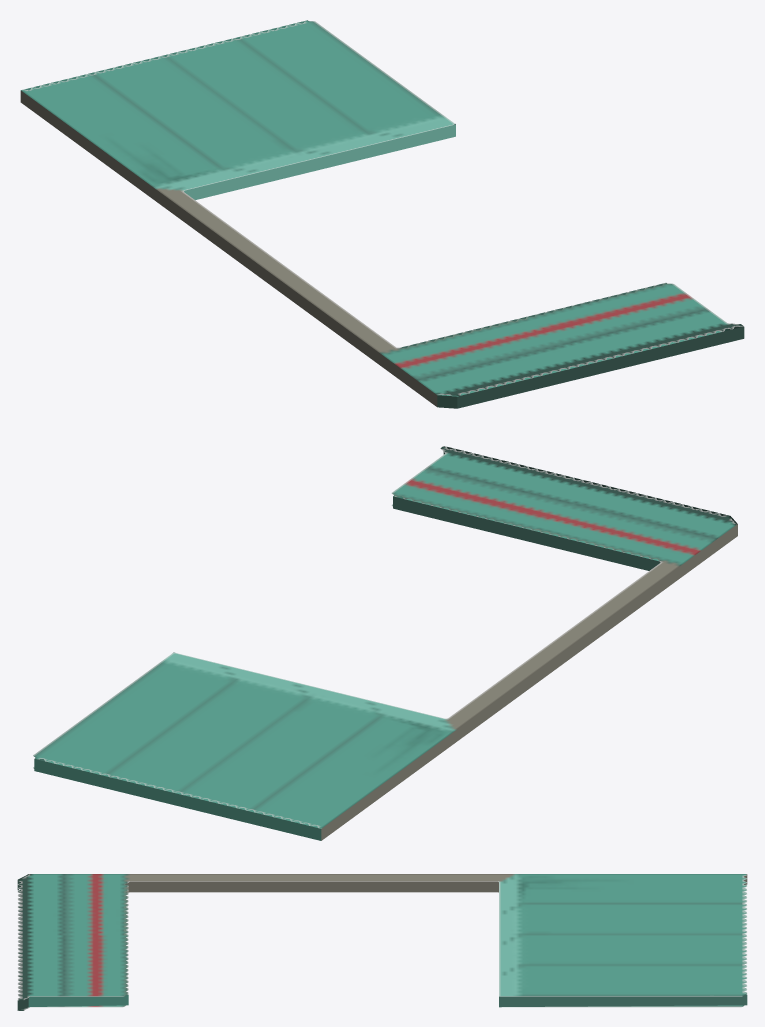
Rendered from pz_native_location_restaurant_diner_01_59_frame.obj.
3 renders of one model, top to bottom at view 1: azimuth 30°, elevation 25°; view 2: azimuth 150°, elevation 25°; view 3: azimuth 270°, elevation 25°, orthographic. The views are drawn at different scales.
Parts seen in each view (by area): view 1: pz_native_location_restaurant_diner_01_59_frame; view 2: pz_native_location_restaurant_diner_01_59_frame; view 3: pz_native_location_restaurant_diner_01_59_frame.
Boxes of the visible parts, left/top/right/bottom form: pz_native_location_restaurant_diner_01_59_frame: left=20, top=20, right=744, bottom=408; pz_native_location_restaurant_diner_01_59_frame: left=33, top=446, right=737, bottom=840; pz_native_location_restaurant_diner_01_59_frame: left=17, top=874, right=747, bottom=1010.
Bounding box in the file's own units: 1.06 × 0.04 × 2.54.
Materials: 1 (1 with a texture image).
